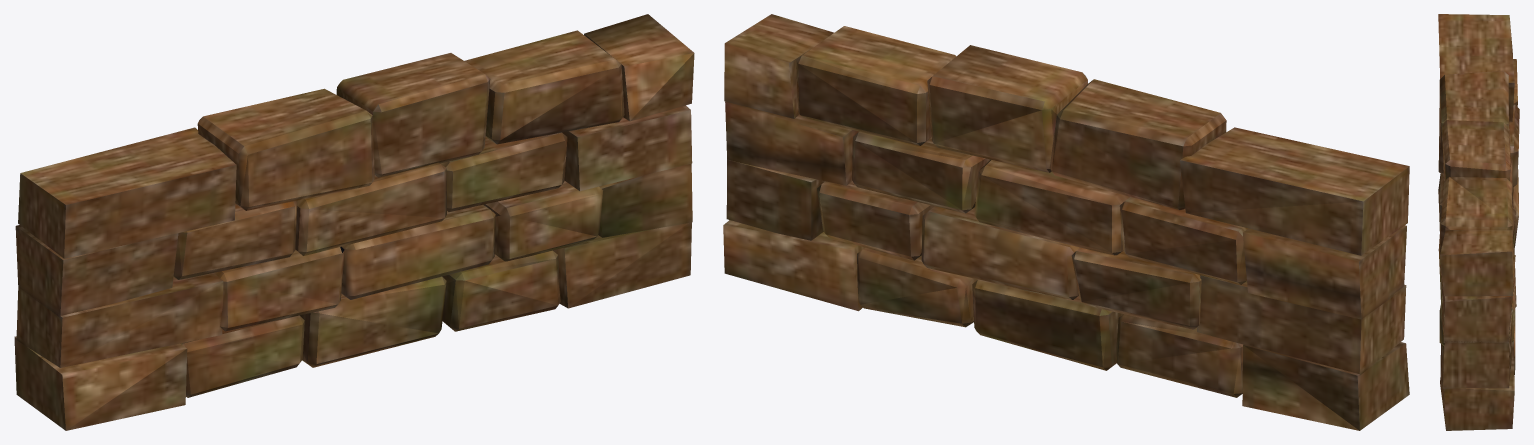
Rendered from Laterite_Wall.glb.
The picture shows the model from 3 angles, left to right: view 1: azimuth 30°, elevation 25°; view 2: azimuth 150°, elevation 25°; view 3: azimuth 270°, elevation 25°; orthographic projection. The views are drawn at different scales.
Visible parts, largest first — view 1: Laterite_Wall; view 2: Laterite_Wall; view 3: Laterite_Wall.
Part boxes in pixels (bbox=[...]): Laterite_Wall: bbox=[14, 14, 694, 430]; Laterite_Wall: bbox=[723, 14, 1409, 430]; Laterite_Wall: bbox=[1438, 14, 1519, 430].
Bounding box in the file's own units: 2.8 × 1.07 × 0.4022.
1 material, 1 textured.
